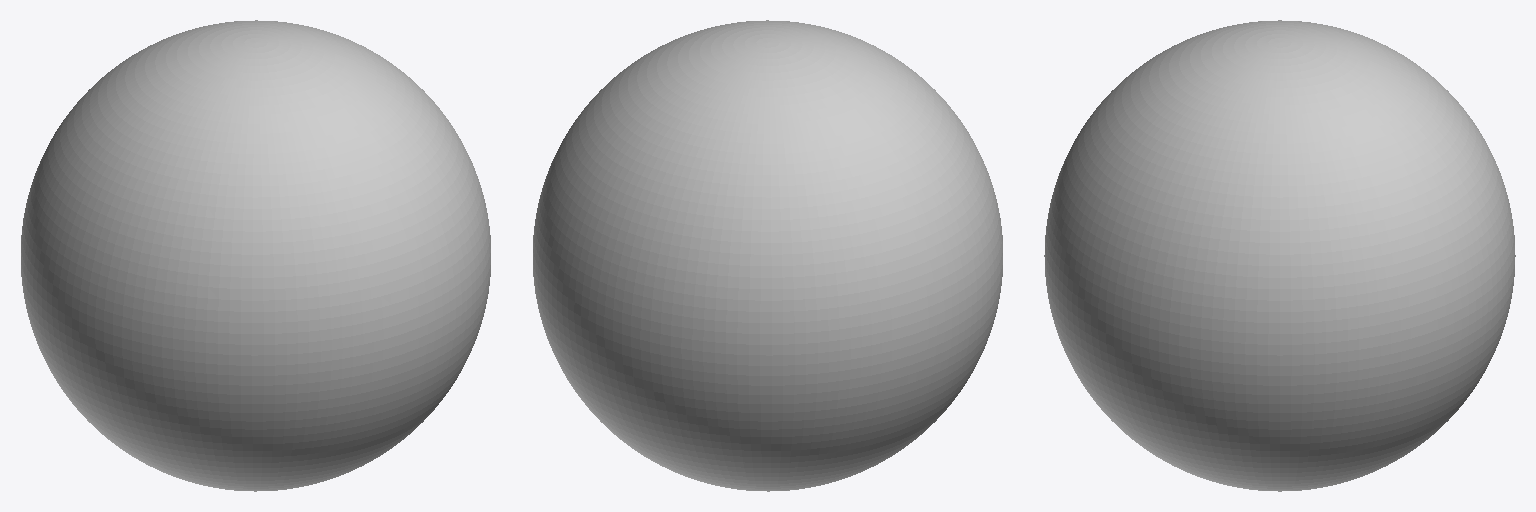
Rendered from planet_serendip.OBJ.
3 renders of one model, left to right at view 1: azimuth 30°, elevation 25°; view 2: azimuth 150°, elevation 25°; view 3: azimuth 270°, elevation 25°, orthographic.
Parts seen in each view (by area): view 1: Group30970; view 2: Group30970; view 3: Group30970.
Boxes of the visible parts, <box> form: Group30970: <box>21,20,490,491</box>; Group30970: <box>533,20,1002,491</box>; Group30970: <box>1044,20,1515,491</box>.
Bounding box in the file's own units: 2 × 2 × 2.